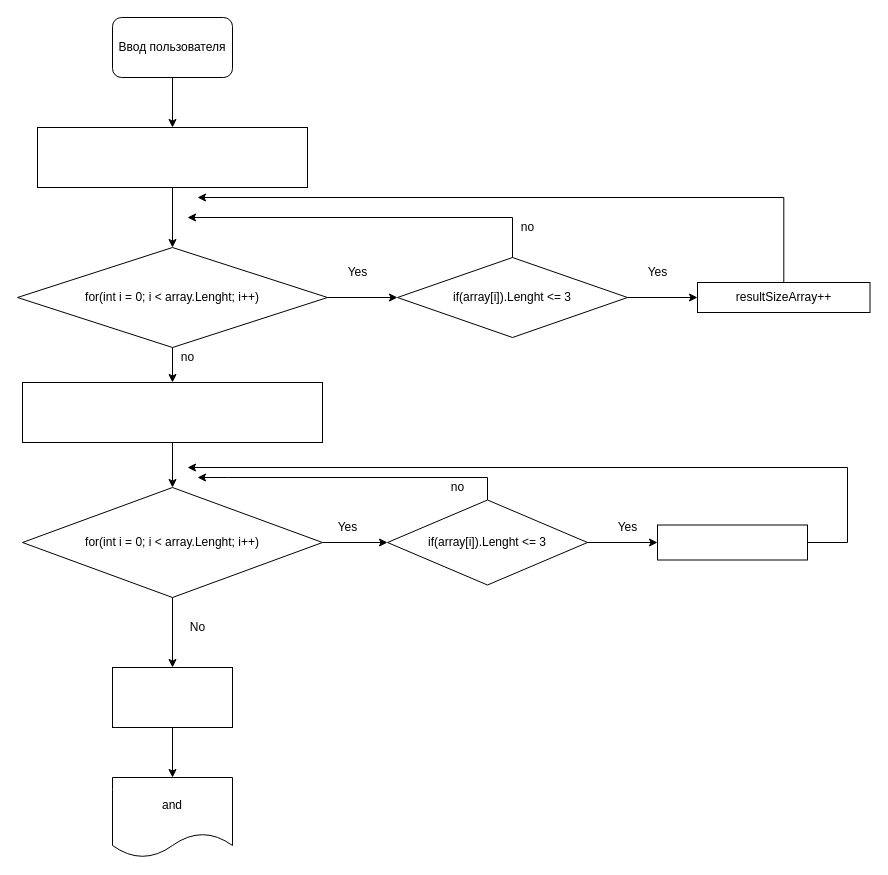
Image size: 888x875. Some labels were removed from this diagram. The box of each missing label's shape, as (x1, y1, x2, y2) in pixels:
resultArray[j] = array[i]; j++;: (656, 524, 808, 560)
return resultArray: (112, 666, 232, 728)
string [] resultArray = new string[resultSizeArray]; int j = 0;: (22, 382, 322, 442)
string[] ThreeSizeCharacters(string []) array int resultSizeArray = 0: (36, 126, 308, 188)
